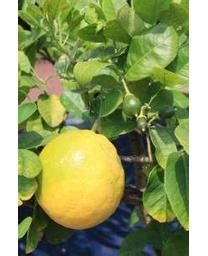lemon: (34, 131, 125, 230), (120, 94, 142, 115)
